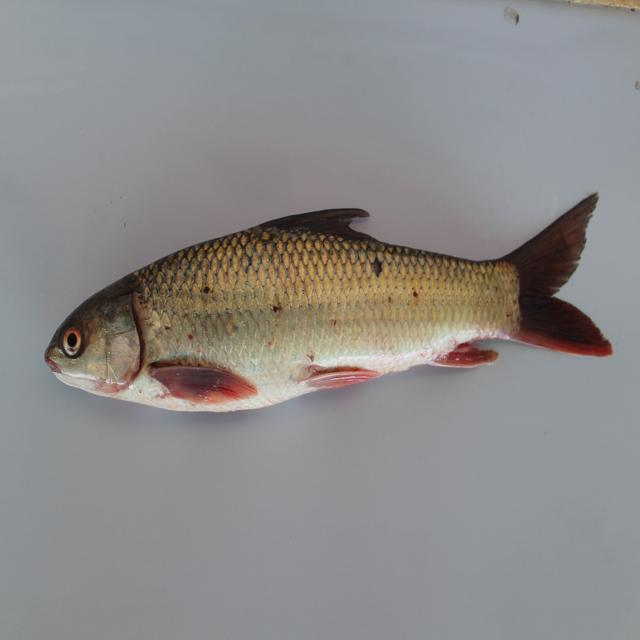Mori: (36, 199, 636, 426)
